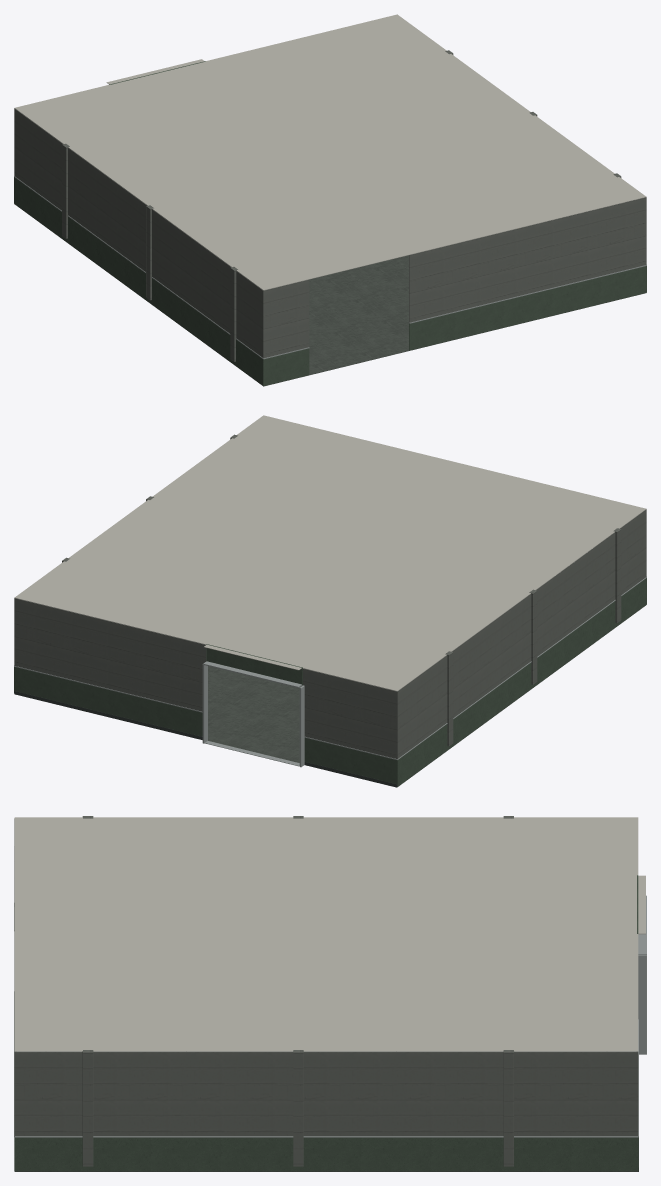
The model's file is transfer_room_lining.glb.
The picture shows the model from 3 angles, top to bottom: view 1: azimuth 30°, elevation 25°; view 2: azimuth 150°, elevation 25°; view 3: azimuth 270°, elevation 25°; orthographic projection. The views are drawn at different scales.
Parts seen in each view (by area): view 1: transfer_room_lining / bay_ceiling_ivory, transfer_room_lining / transfer_quiet_concrete, transfer_room_lining / transfer_green_enamel, transfer_room_lining / transfer_floor_coating, transfer_room_lining / transfer_galvanized; view 2: transfer_room_lining / bay_ceiling_ivory, transfer_room_lining / transfer_quiet_concrete, transfer_room_lining / transfer_green_enamel, transfer_room_lining / transfer_floor_coating, transfer_room_lining / transfer_galvanized, transfer_room_lining / transfer_dark_steel; view 3: transfer_room_lining / bay_ceiling_ivory, transfer_room_lining / transfer_quiet_concrete, transfer_room_lining / transfer_green_enamel, transfer_room_lining / transfer_galvanized, transfer_room_lining / transfer_floor_coating.
Part boxes in pixels (box(x1,y1,x2,y2)): transfer_room_lining / bay_ceiling_ivory: box(14, 14, 646, 290); transfer_room_lining / transfer_quiet_concrete: box(14, 50, 646, 361); transfer_room_lining / transfer_green_enamel: box(14, 61, 646, 385); transfer_room_lining / transfer_floor_coating: box(19, 207, 645, 386); transfer_room_lining / transfer_galvanized: box(14, 176, 646, 359); transfer_room_lining / bay_ceiling_ivory: box(14, 415, 646, 691); transfer_room_lining / transfer_quiet_concrete: box(14, 434, 646, 758); transfer_room_lining / transfer_green_enamel: box(14, 578, 646, 786); transfer_room_lining / transfer_floor_coating: box(206, 605, 645, 786); transfer_room_lining / transfer_galvanized: box(14, 577, 646, 767); transfer_room_lining / transfer_dark_steel: box(14, 691, 397, 787); transfer_room_lining / bay_ceiling_ivory: box(14, 817, 645, 1051); transfer_room_lining / transfer_quiet_concrete: box(14, 816, 638, 1166); transfer_room_lining / transfer_green_enamel: box(14, 875, 638, 1171); transfer_room_lining / transfer_galvanized: box(14, 895, 646, 1137); transfer_room_lining / transfer_floor_coating: box(14, 1171, 638, 1171).
Bounding box in the file's own units: 15.95 × 3.8 × 18.05.
Materials: 9 (3 with a texture image).
